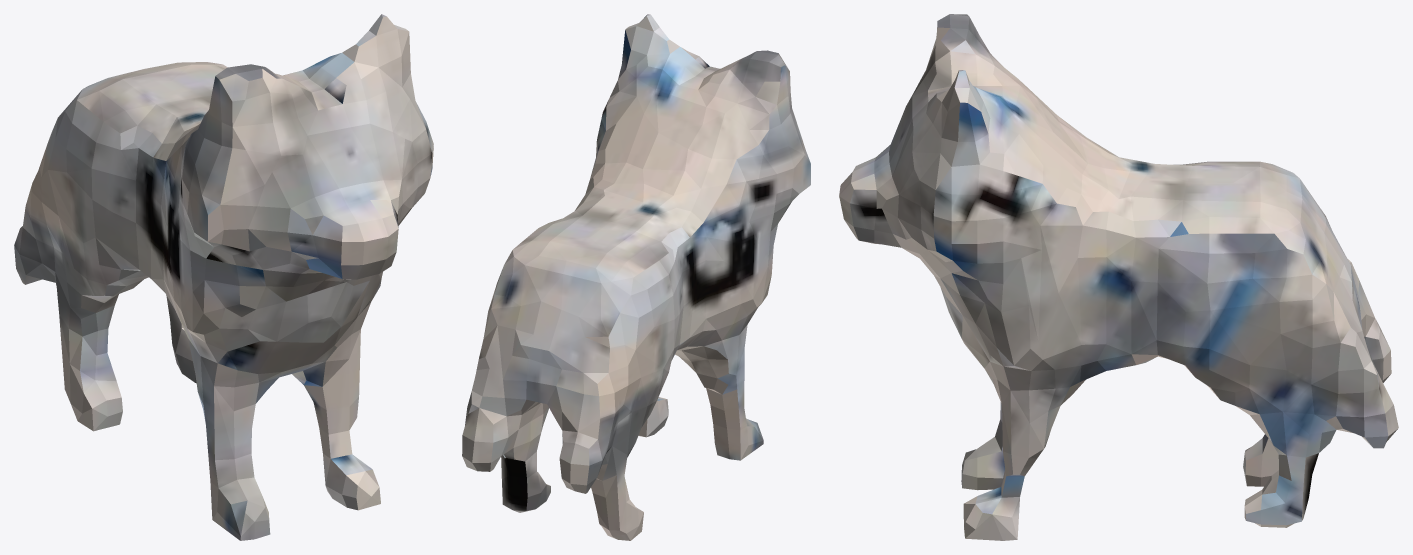
Rendered from snowWolf.glb.
3 renders of one model, left to right at view 1: azimuth 30°, elevation 25°; view 2: azimuth 150°, elevation 25°; view 3: azimuth 270°, elevation 25°, orthographic. The views are drawn at different scales.
Parts seen in each view (by area): view 1: material.001; view 2: material.001; view 3: material.001.
Part boxes in pixels (<box>): material.001: <box>14,14,433,540</box>; material.001: <box>462,14,810,540</box>; material.001: <box>839,14,1398,540</box>.
Size of the model in its own units: 0.4519 by 0.9192 by 0.9834.
1 material, 1 textured.
